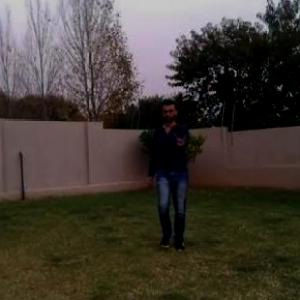takeoff-hand: (174, 125, 193, 154)
